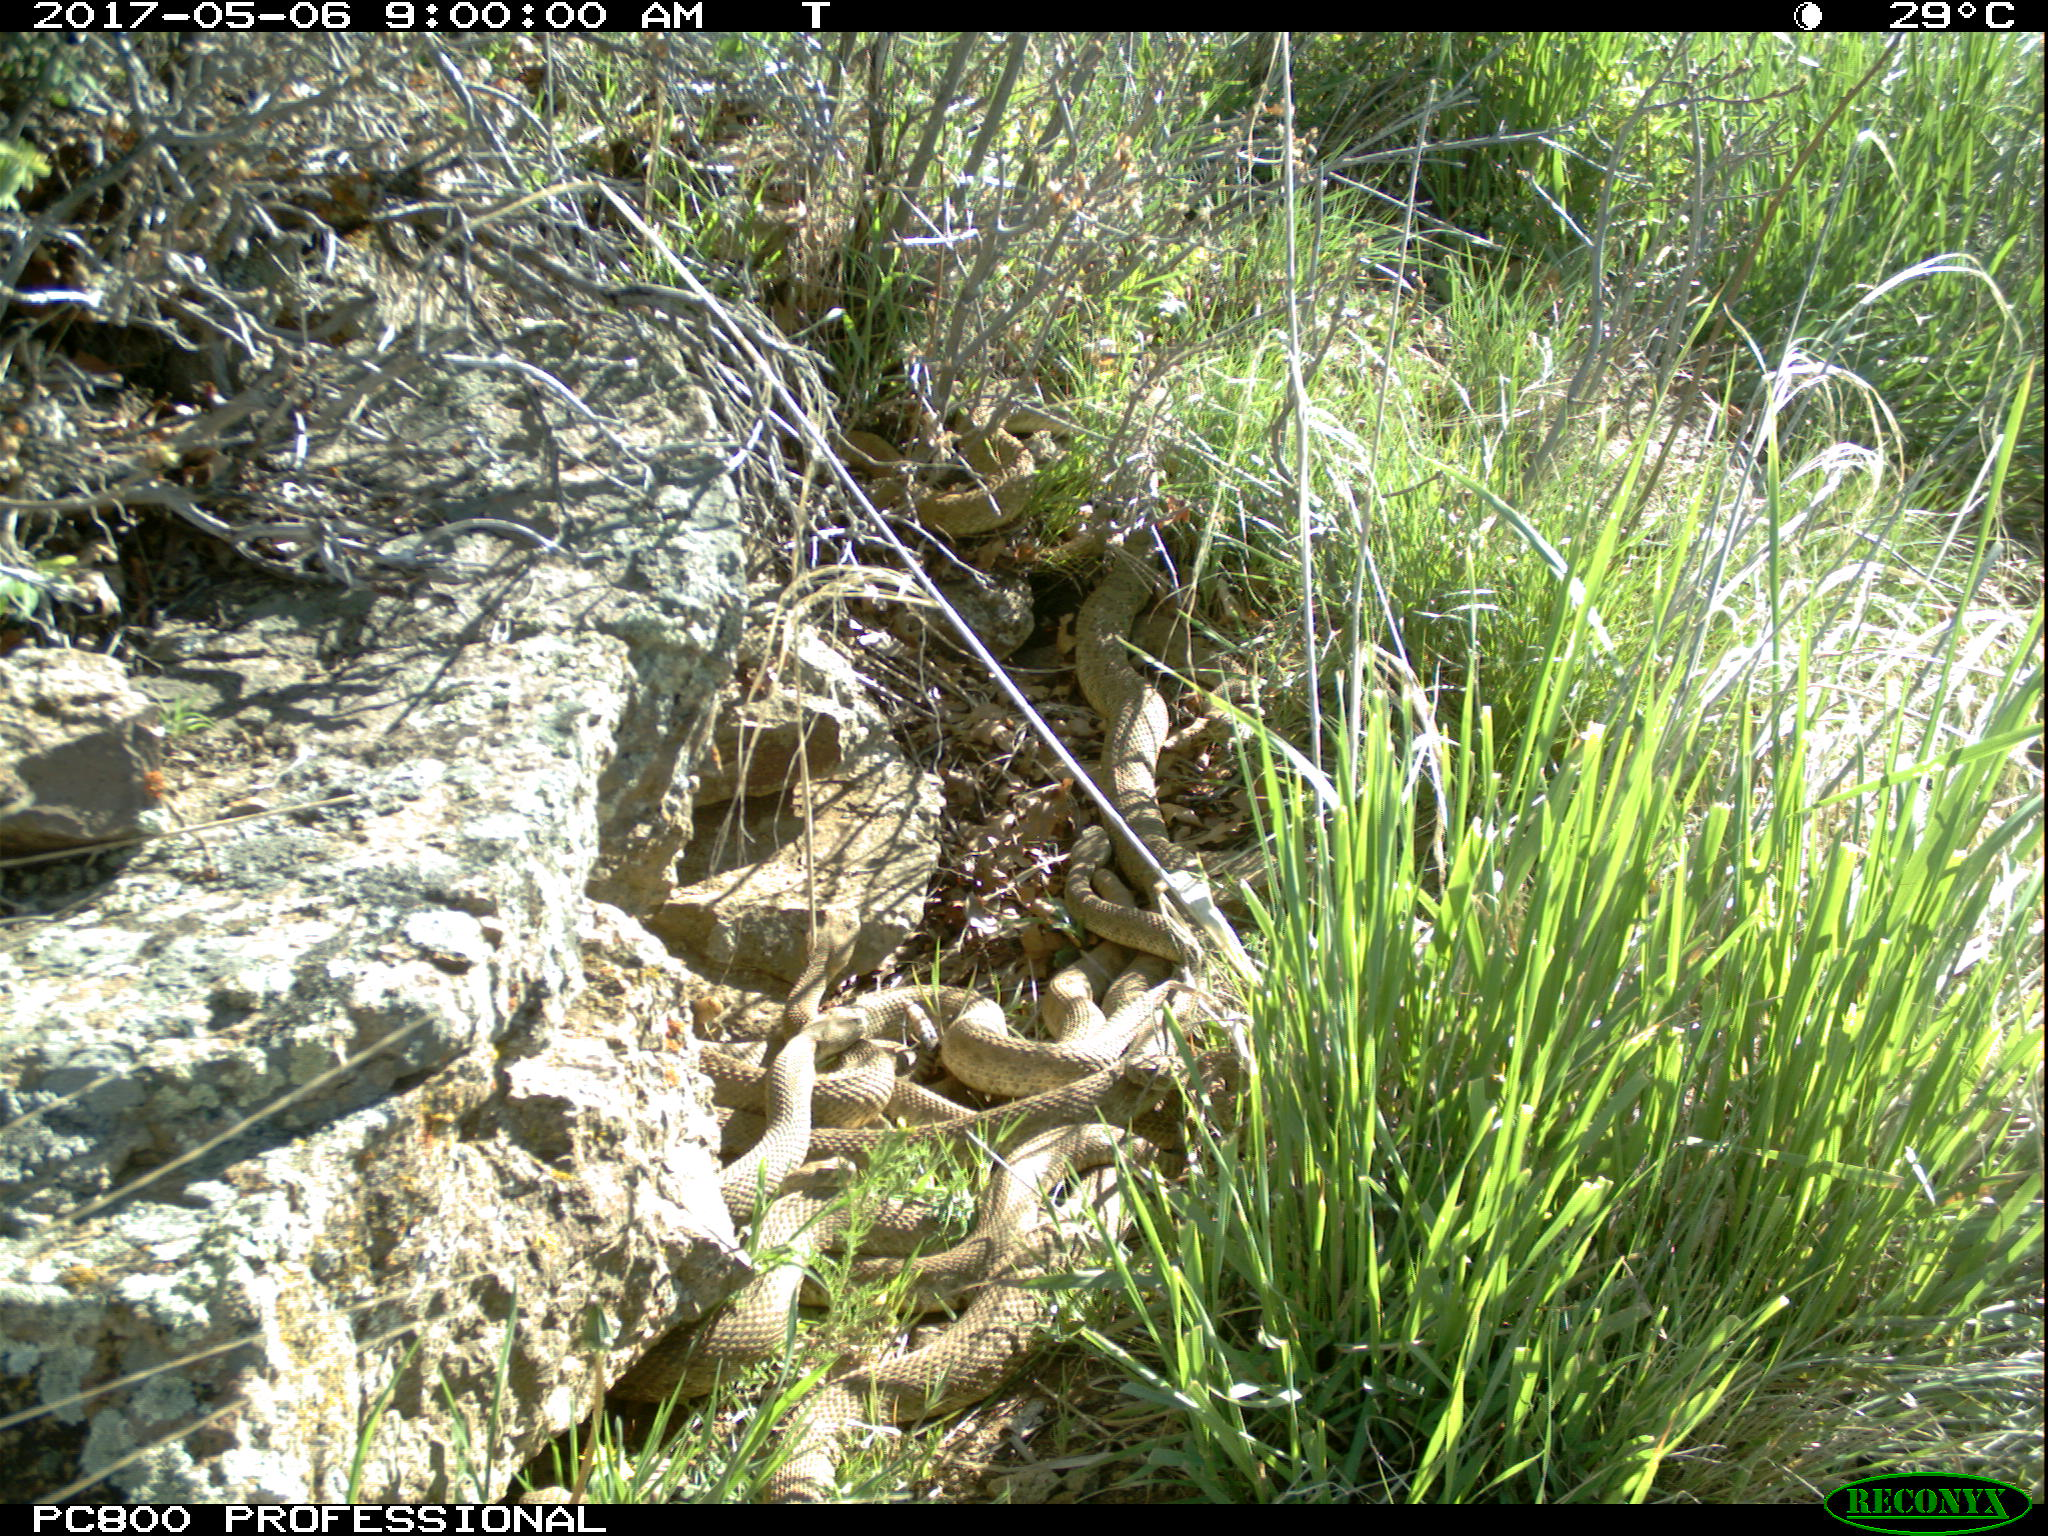snake: (1056, 574, 1263, 981), (713, 992, 1101, 1170), (626, 1181, 924, 1392), (710, 1342, 935, 1502), (851, 411, 1080, 536), (937, 1221, 1089, 1404), (998, 1120, 1184, 1252)
